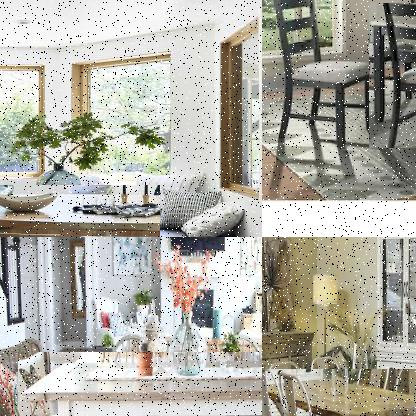table: (18, 352, 261, 415), (262, 369, 415, 415), (369, 2, 415, 150)
